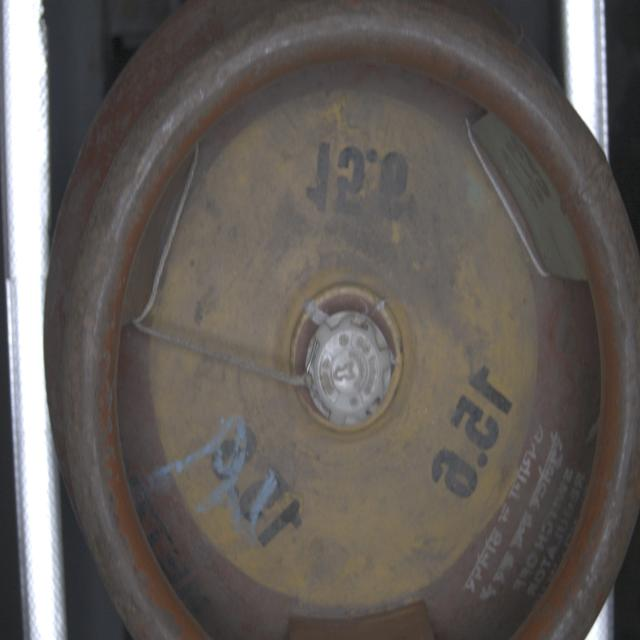Cap: (306, 307, 396, 435)
